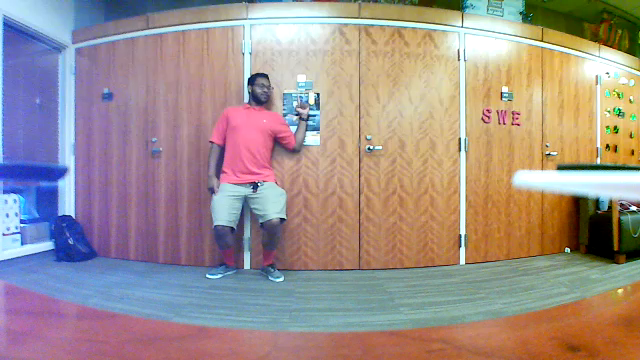up: (290, 92, 315, 121)
